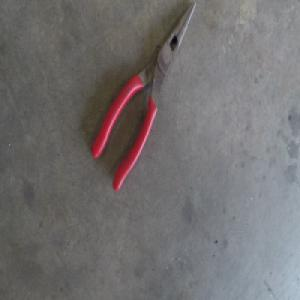Pliers: (89, 2, 194, 193)
